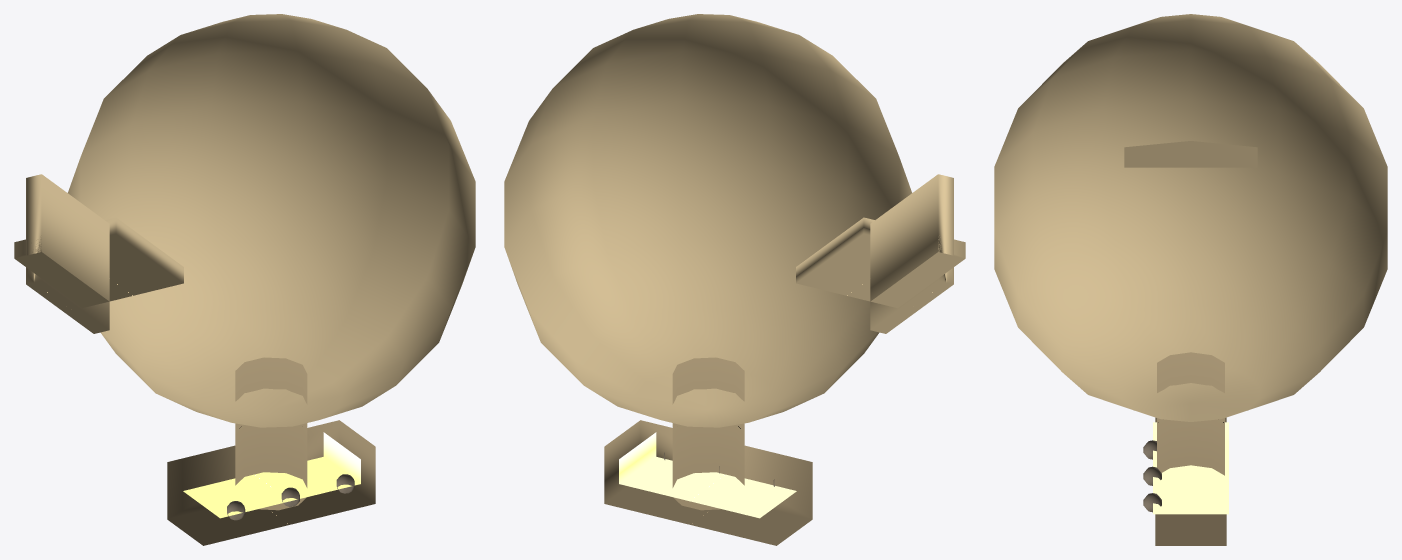
Rendered from bg_airship.glb.
The picture shows the model from 3 angles, left to right: view 1: azimuth 30°, elevation 25°; view 2: azimuth 150°, elevation 25°; view 3: azimuth 270°, elevation 25°; orthographic projection.
Bounding box in the file's own units: 102 × 117 × 88.33.
